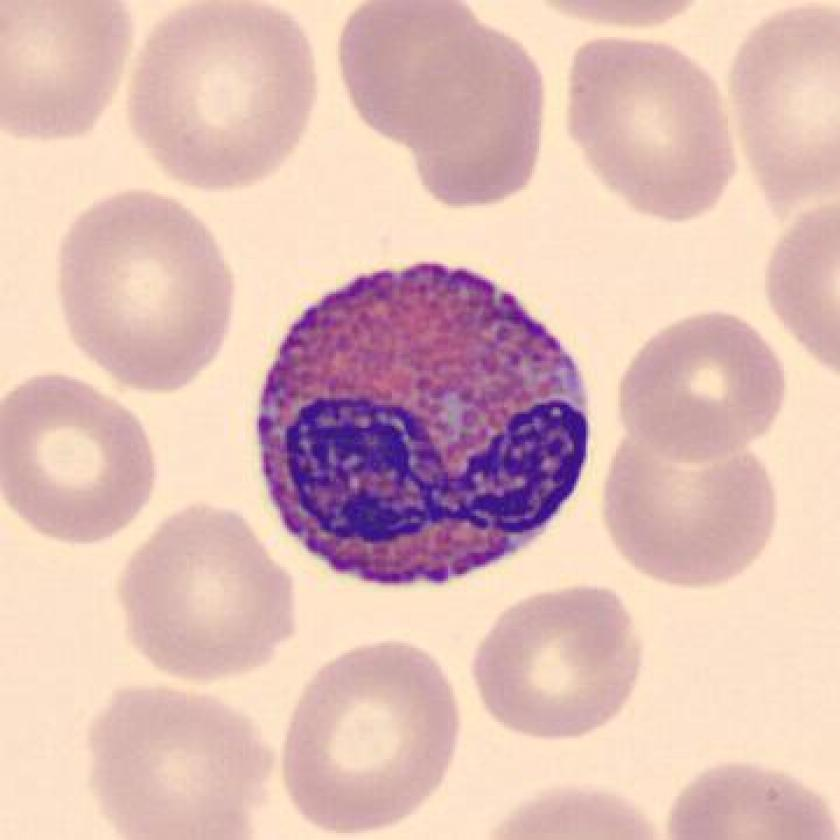eosinophil: (244, 251, 605, 603)
